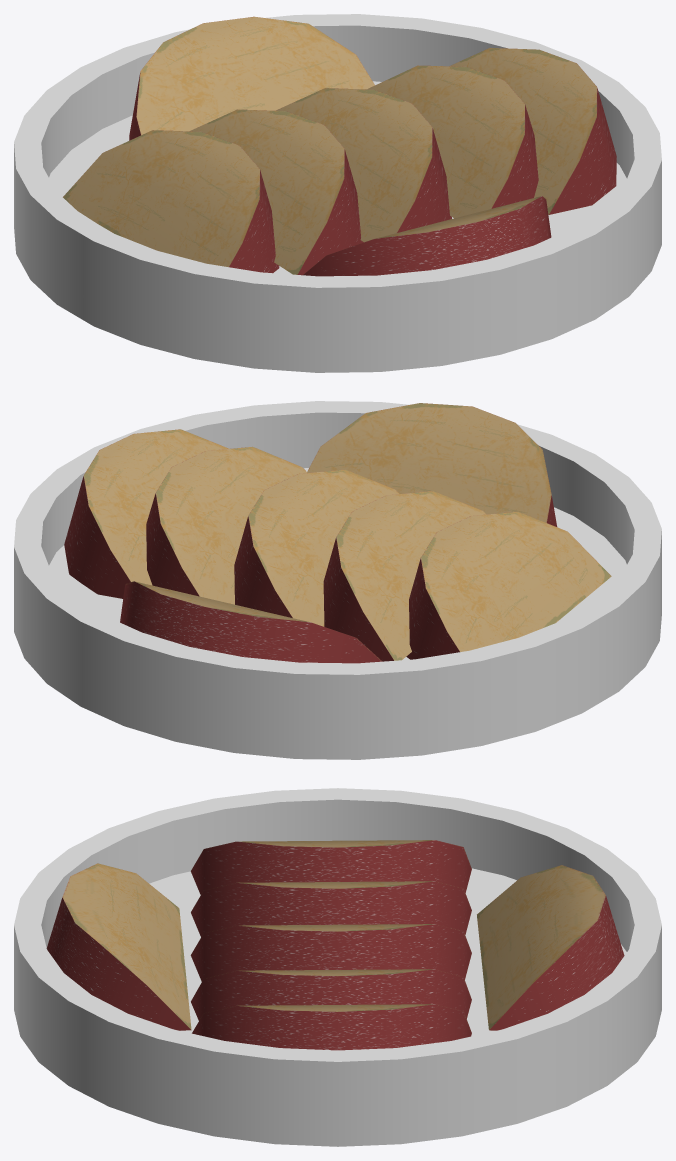
File: Apple Tray.fbx
The picture shows the model from 3 angles, top to bottom: view 1: azimuth 30°, elevation 25°; view 2: azimuth 150°, elevation 25°; view 3: azimuth 270°, elevation 25°; orthographic projection.
Parts seen in each view (by area): view 1: Tray, Apple slice.004, Apple slice.005, Apple slice.001, Apple slice.003, Apple slice.002, Apple slice, Apple slice.006; view 2: Tray, Apple slice.004, Apple slice.006, Apple slice.001, Apple slice.003, Apple slice.002, Apple slice, Apple slice.005; view 3: Tray, Apple slice.005, Apple slice.006, Apple slice.002, Apple slice.003, Apple slice.004, Apple slice, Apple slice.001.
Boxes of the visible parts, x1,y1,x2,y2 form: Tray: (14, 14, 661, 372); Apple slice.004: (63, 130, 279, 273); Apple slice.005: (129, 16, 374, 140); Apple slice.001: (368, 65, 538, 218); Apple slice.003: (190, 109, 363, 275); Apple slice.002: (276, 88, 451, 242); Apple slice: (449, 48, 616, 214); Apple slice.006: (303, 196, 551, 276); Tray: (14, 401, 661, 759); Apple slice.004: (406, 511, 611, 659); Apple slice.006: (307, 403, 557, 526); Apple slice.001: (146, 446, 307, 604); Apple slice.003: (323, 491, 486, 661); Apple slice.002: (234, 469, 399, 626); Apple slice: (64, 429, 229, 598); Apple slice.005: (120, 581, 382, 663); Tray: (14, 788, 661, 1146); Apple slice.005: (477, 865, 624, 1030); Apple slice.006: (46, 863, 191, 1030); Apple slice.002: (190, 924, 471, 981); Apple slice.003: (191, 881, 471, 937); Apple slice.004: (190, 840, 471, 894); Apple slice: (192, 1004, 471, 1050); Apple slice.001: (191, 969, 471, 1020).
Bounding box in the file's own units: 65.84 × 12.88 × 65.84.
